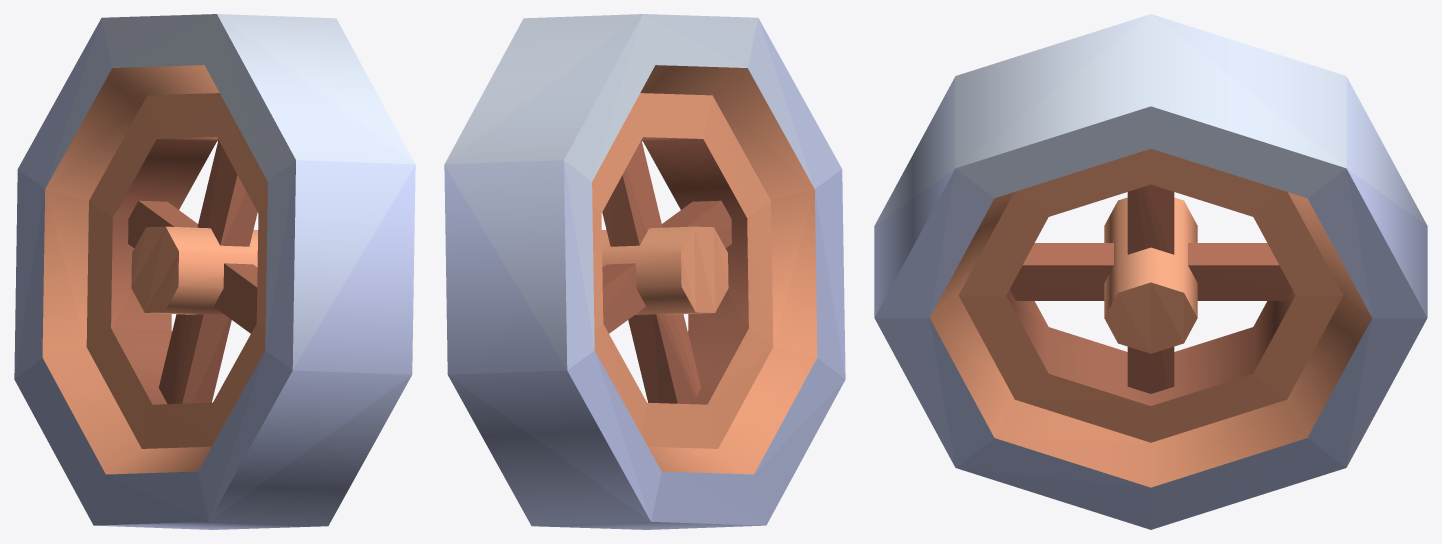
File: kenney_town_wheel.glb
3 views of the same model, side by side, from view 1: azimuth 30°, elevation 25°; view 2: azimuth 150°, elevation 25°; view 3: azimuth 270°, elevation 25° (orthographic).
Visible parts, largest first — view 1: wood, metal, cloth, stone; view 2: wood, metal, cloth, stone; view 3: wood, cloth, metal, stone.
Part boxes in pixels (x1=…): wood: x1=42, y1=65, x2=267, y2=474; metal: x1=14, y1=18, x2=415, y2=521; cloth: x1=101, y1=14, x2=414, y2=181; stone: x1=14, y1=358, x2=411, y2=529; wood: x1=592, y1=65, x2=817, y2=474; metal: x1=444, y1=18, x2=845, y2=521; cloth: x1=445, y1=14, x2=758, y2=181; stone: x1=448, y1=358, x2=845, y2=529; wood: x1=930, y1=148, x2=1371, y2=487; cloth: x1=955, y1=14, x2=1346, y2=198; metal: x1=874, y1=77, x2=1427, y2=466; stone: x1=930, y1=319, x2=1371, y2=529.
Bounding box in the file's own units: 0.2384 × 0.4833 × 0.4678.
